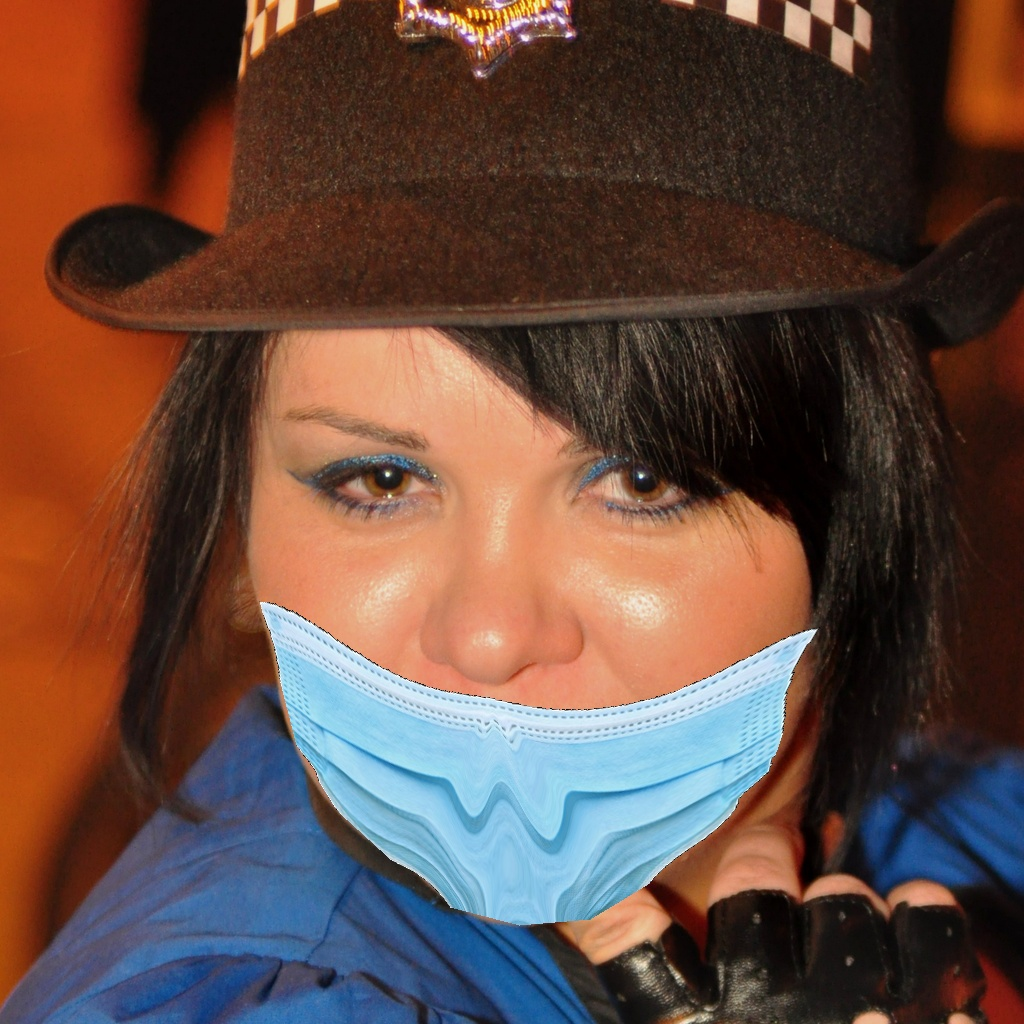mascarilla_mal_puesta: (189, 380, 864, 935)
